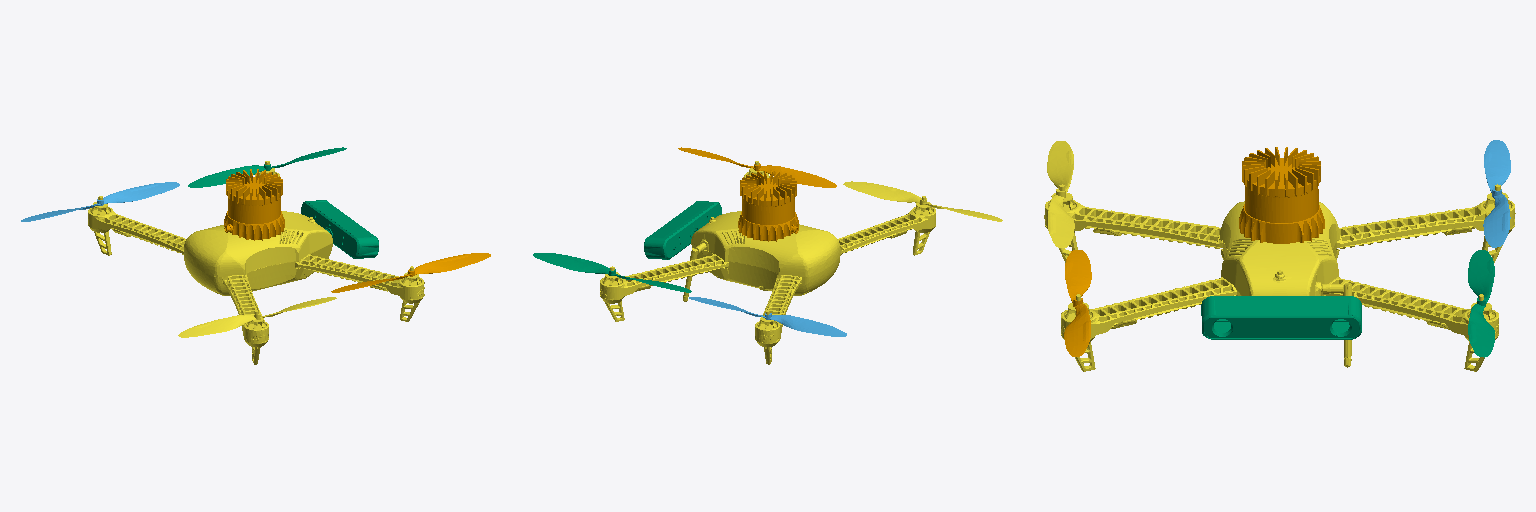
URDF robot description (iris_with_sensors.pegasus.robot):
<?xml version="1.0" encoding="UTF-8"?>
<robot name="iris_with_sensors.pegasus.robot">
  <joint name="DistanceJoint" type="fixed">
    <origin xyz="0. 0. 0." rpy="0. 0. 1.5707872"/>
    <parent link="base_link"/>
    <child link="base_link_body_body_link"/>
  </joint>
  <joint name="OS1_REV6_128_10hz___512_resolution_FixedJoint" type="fixed">
    <origin xyz="0. 0. 0.0425594" rpy="0. 0. -1.5707872"/>
    <parent link="base_link_body_body_link"/>
    <child link="OS1_REV6_128_10hz___512_resolution"/>
  </joint>
  <joint name="base_link_ZED_X_FixedJoint" type="fixed">
    <origin xyz="0.0000013 -0.1451943 -0.0066019" rpy="0.1745329 0. 0.0000091"/>
    <parent link="base_link_body_body_link"/>
    <child link="base_link_ZED_X"/>
  </joint>
  <joint name="joint0" type="continuous">
    <origin xyz="-0.2067341 -0.1375972 0.023 " rpy="0. 0. 0."/>
    <parent link="base_link_body_body_link"/>
    <child link="rotor0"/>
    <axis xyz="0. 0. 1."/>
  </joint>
  <joint name="joint1" type="continuous">
    <origin xyz="0.2186935 0.125002 0.023 " rpy="0. 0. 0."/>
    <parent link="base_link_body_body_link"/>
    <child link="rotor1"/>
    <axis xyz="0. 0. 1."/>
  </joint>
  <joint name="joint2" type="continuous">
    <origin xyz="0.2032209 -0.138307 0.023 " rpy="0. 0. 0."/>
    <parent link="base_link_body_body_link"/>
    <child link="rotor2"/>
    <axis xyz="0. 0. 1."/>
  </joint>
  <joint name="joint3" type="continuous">
    <origin xyz="-0.222 0.1245 0.023 " rpy="0. 0. 0."/>
    <parent link="base_link_body_body_link"/>
    <child link="rotor3"/>
    <axis xyz="0. 0. 1."/>
  </joint>
  <joint name="joint_OS1_REV6_128_10hz___512_resolution-lidar" type="fixed">
    <origin xyz="0. 0. 0.03622" rpy="0 1.57 1.57"/>
    <parent link="OS1_REV6_128_10hz___512_resolution"/>
    <child link="lidar"/>
  </joint>
  <joint name="joint_base_link_ZED_X-camera_left" type="fixed">
    <origin xyz="0.05994 -0.00909 0.0134 " rpy="-1.5707964 0. -3.1415927"/>
    <parent link="base_link_ZED_X"/>
    <child link="camera_left"/>
  </joint>
  <joint name="joint_base_link_ZED_X-camera_right" type="fixed">
    <origin xyz="-0.05994 -0.00909 0.0134 " rpy="-1.5707964 0. -3.1415927"/>
    <parent link="base_link_ZED_X"/>
    <child link="camera_right"/>
  </joint>
  <joint name="joint_base_link_ZED_X-imu" type="fixed">
    <origin xyz="0.06 0.014058 0.0134 " rpy="0. 0. 0."/>
    <parent link="base_link_ZED_X"/>
    <child link="imu"/>
  </joint>
  <link name="OS1_REV6_128_10hz___512_resolution">
    <visual>
      <origin xyz="0. 0. -0." rpy="1.5707964 0. 1.5707963"/>
      <geometry>
        <mesh filename="package://iris_with_sensors_description/meshes/os1_mesh.obj" scale="1. 1. 1."/>
      </geometry>
    </visual>
    <collision>
      <origin xyz="0. 0. -0." rpy="1.5707964 0. 1.5707963"/>
      <geometry>
        <mesh filename="package://iris_with_sensors_description/meshes/os1_mesh.obj" scale="1. 1. 1."/>
      </geometry>
    </collision>
  </link>
  <link name="base_link"/>
  <link name="base_link_ZED_X">
    <visual>
      <origin xyz="0. 0.0157875 0.0134617" rpy="1.5707964 0. 0. "/>
      <geometry>
        <mesh filename="package://iris_with_sensors_description/meshes/base_link_ZED_X_base_link_ZED_X_ZED_X.obj" scale="1. 1. 1."/>
      </geometry>
    </visual>
    <collision>
      <origin xyz="0. 0.0157875 0.0134617" rpy="1.5707964 0. 0. "/>
      <geometry>
        <mesh filename="package://iris_with_sensors_description/meshes/base_link_ZED_X_base_link_ZED_X_ZED_X.obj" scale="1. 1. 1."/>
      </geometry>
    </collision>
  </link>
  <link name="base_link_body_body_link">
    <visual>
      <origin xyz="0. 0. 0." rpy="0. 0. 0."/>
      <geometry>
        <mesh filename="package://iris_with_sensors_description/meshes/base_link_body_body.obj" scale="1. 1. 1."/>
      </geometry>
    </visual>
    <collision>
      <origin xyz="0. 0. 0." rpy="0. 0. 0."/>
      <geometry>
        <mesh filename="package://iris_with_sensors_description/meshes/base_link_body_body.obj" scale="1. 1. 1."/>
      </geometry>
    </collision>
  </link>
  <link name="camera_left"/>
  <link name="camera_right"/>
  <link name="imu"/>
  <link name="lidar"/>
  <link name="rotor0">
    <visual>
      <origin xyz="0.0005641 -0.0042183 0. " rpy="0. 0. 0.0000089"/>
      <geometry>
        <mesh filename="package://iris_with_sensors_description/meshes/rotor0_iris_prop_ccw.obj" scale="1. 1. 1."/>
      </geometry>
    </visual>
    <collision>
      <origin xyz="0.0005641 -0.0042183 0. " rpy="0. 0. 0.0000089"/>
      <geometry>
        <mesh filename="package://iris_with_sensors_description/meshes/rotor0_iris_prop_ccw.obj" scale="1. 1. 1."/>
      </geometry>
    </collision>
  </link>
  <link name="rotor1">
    <visual>
      <origin xyz="0.0002835 -0.0040079 0. " rpy="0. 0. 0.0000089"/>
      <geometry>
        <mesh filename="package://iris_with_sensors_description/meshes/rotor1_iris_prop_ccw.obj" scale="1. 1. 1."/>
      </geometry>
    </visual>
    <collision>
      <origin xyz="0.0002835 -0.0040079 0. " rpy="0. 0. 0.0000089"/>
      <geometry>
        <mesh filename="package://iris_with_sensors_description/meshes/rotor1_iris_prop_ccw.obj" scale="1. 1. 1."/>
      </geometry>
    </collision>
  </link>
  <link name="rotor2">
    <visual>
      <origin xyz="-0.0006439 -0.0006316 0. " rpy="0. 0. 0.0000089"/>
      <geometry>
        <mesh filename="package://iris_with_sensors_description/meshes/rotor2_iris_prop_cw.obj" scale="1. 1. 1."/>
      </geometry>
    </visual>
    <collision>
      <origin xyz="-0.0006439 -0.0006316 0. " rpy="0. 0. 0.0000089"/>
      <geometry>
        <mesh filename="package://iris_with_sensors_description/meshes/rotor2_iris_prop_cw.obj" scale="1. 1. 1."/>
      </geometry>
    </collision>
  </link>
  <link name="rotor3">
    <visual>
      <origin xyz="-0.0020179 -0.0013155 -0.0001005" rpy="0. 0. 0.0000089"/>
      <geometry>
        <mesh filename="package://iris_with_sensors_description/meshes/rotor3_iris_prop_cw.obj" scale="1. 1. 1."/>
      </geometry>
    </visual>
    <collision>
      <origin xyz="-0.0020179 -0.0013155 -0.0001005" rpy="0. 0. 0.0000089"/>
      <geometry>
        <mesh filename="package://iris_with_sensors_description/meshes/rotor3_iris_prop_cw.obj" scale="1. 1. 1."/>
      </geometry>
    </collision>
  </link>
</robot>

--- Render facts (derived) ---
3 views of the same robot in one strip: view 1: azimuth 30°, elevation 25°; view 2: azimuth 150°, elevation 25°; view 3: azimuth 270°, elevation 25° (orthographic).
Robot: iris_with_sensors.pegasus.robot — 12 links, 11 joints (4 continuous, 7 fixed); root link base_link; default pose: all joints at 0.
Links seen in each view (by area): view 1: base_link_body_body_link, OS1_REV6_128_10hz___512_resolution, base_link_ZED_X, rotor0, rotor3, rotor1, rotor2; view 2: base_link_body_body_link, OS1_REV6_128_10hz___512_resolution, base_link_ZED_X, rotor2, rotor3, rotor1, rotor0; view 3: base_link_body_body_link, OS1_REV6_128_10hz___512_resolution, base_link_ZED_X, rotor1, rotor3, rotor2, rotor0.
Link boxes in pixels (box(x1,y1,x2,y2)): base_link_body_body_link: box(88, 161, 424, 364); OS1_REV6_128_10hz___512_resolution: box(224, 169, 284, 240); base_link_ZED_X: box(301, 200, 378, 258); rotor0: box(331, 253, 490, 292); rotor3: box(178, 297, 336, 337); rotor1: box(21, 182, 179, 221); rotor2: box(188, 147, 346, 187); base_link_body_body_link: box(600, 161, 935, 364); OS1_REV6_128_10hz___512_resolution: box(738, 170, 798, 241); base_link_ZED_X: box(644, 201, 721, 259); rotor2: box(533, 253, 691, 292); rotor3: box(843, 181, 1002, 221); rotor1: box(689, 297, 846, 336); rotor0: box(678, 147, 836, 187); base_link_body_body_link: box(1044, 184, 1515, 371); OS1_REV6_128_10hz___512_resolution: box(1239, 147, 1324, 243); base_link_ZED_X: box(1201, 296, 1361, 339); rotor1: box(1483, 140, 1510, 247); rotor3: box(1047, 141, 1074, 247); rotor2: box(1468, 250, 1494, 357); rotor0: box(1064, 250, 1091, 356).
Size in the robot's own frame: 0.5213 by 0.4777 by 0.1831 metres.
Meshes: 7 distinct files referenced, 7 mesh visuals loaded (7 OBJ).